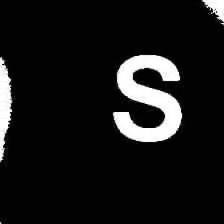LTR_S: (110, 48, 186, 149)
